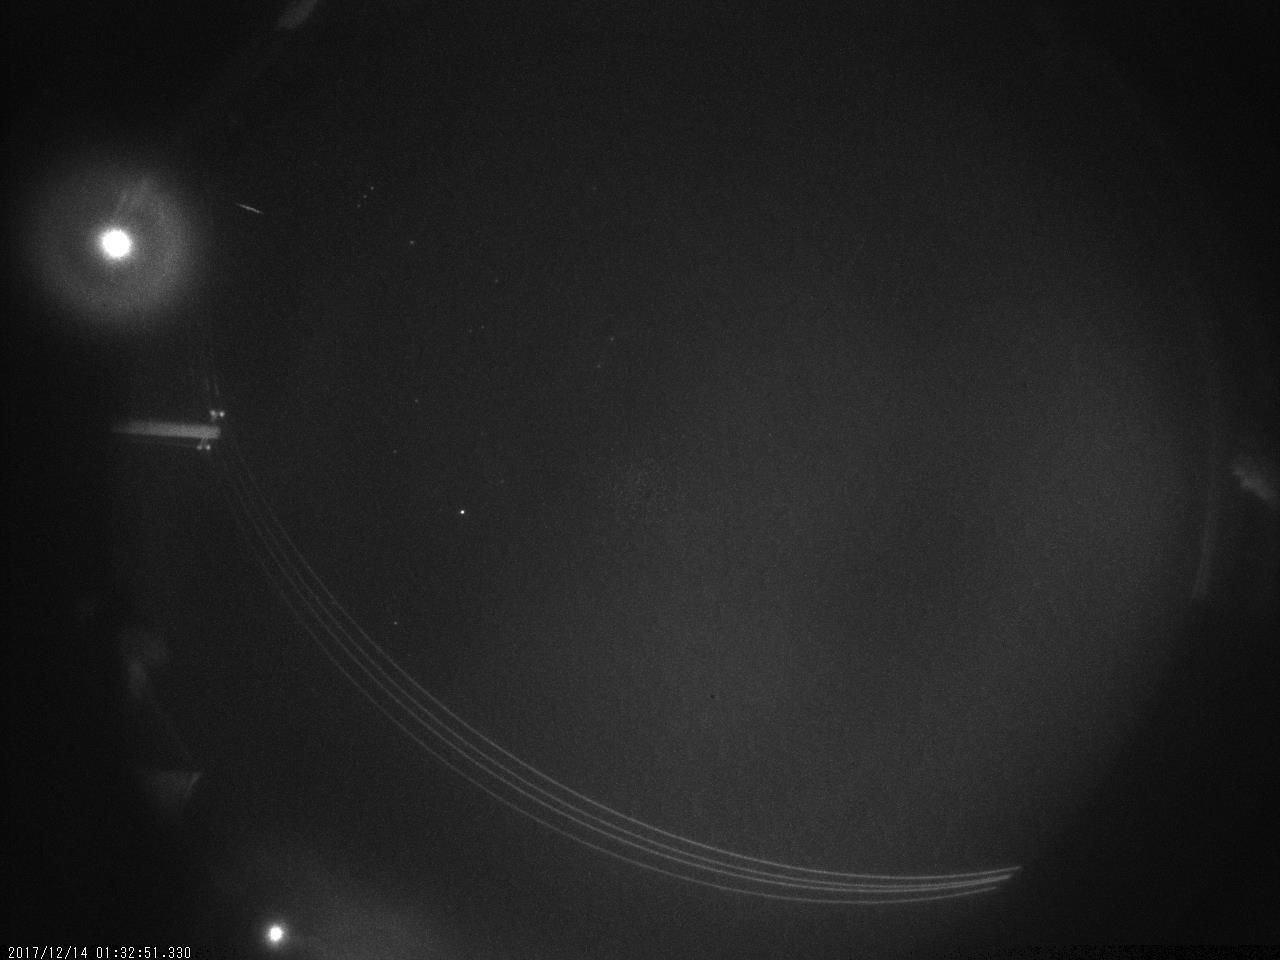Meteor: (231, 198, 265, 218)
